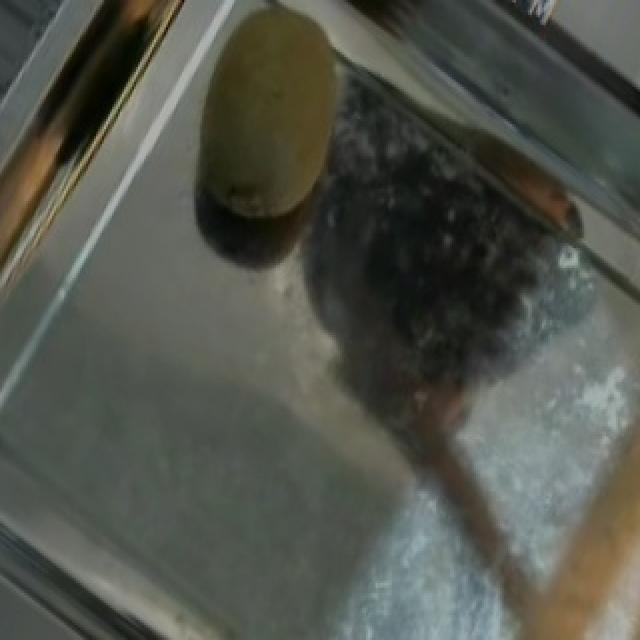Fruit: (158, 0, 386, 256), (494, 387, 640, 640)
